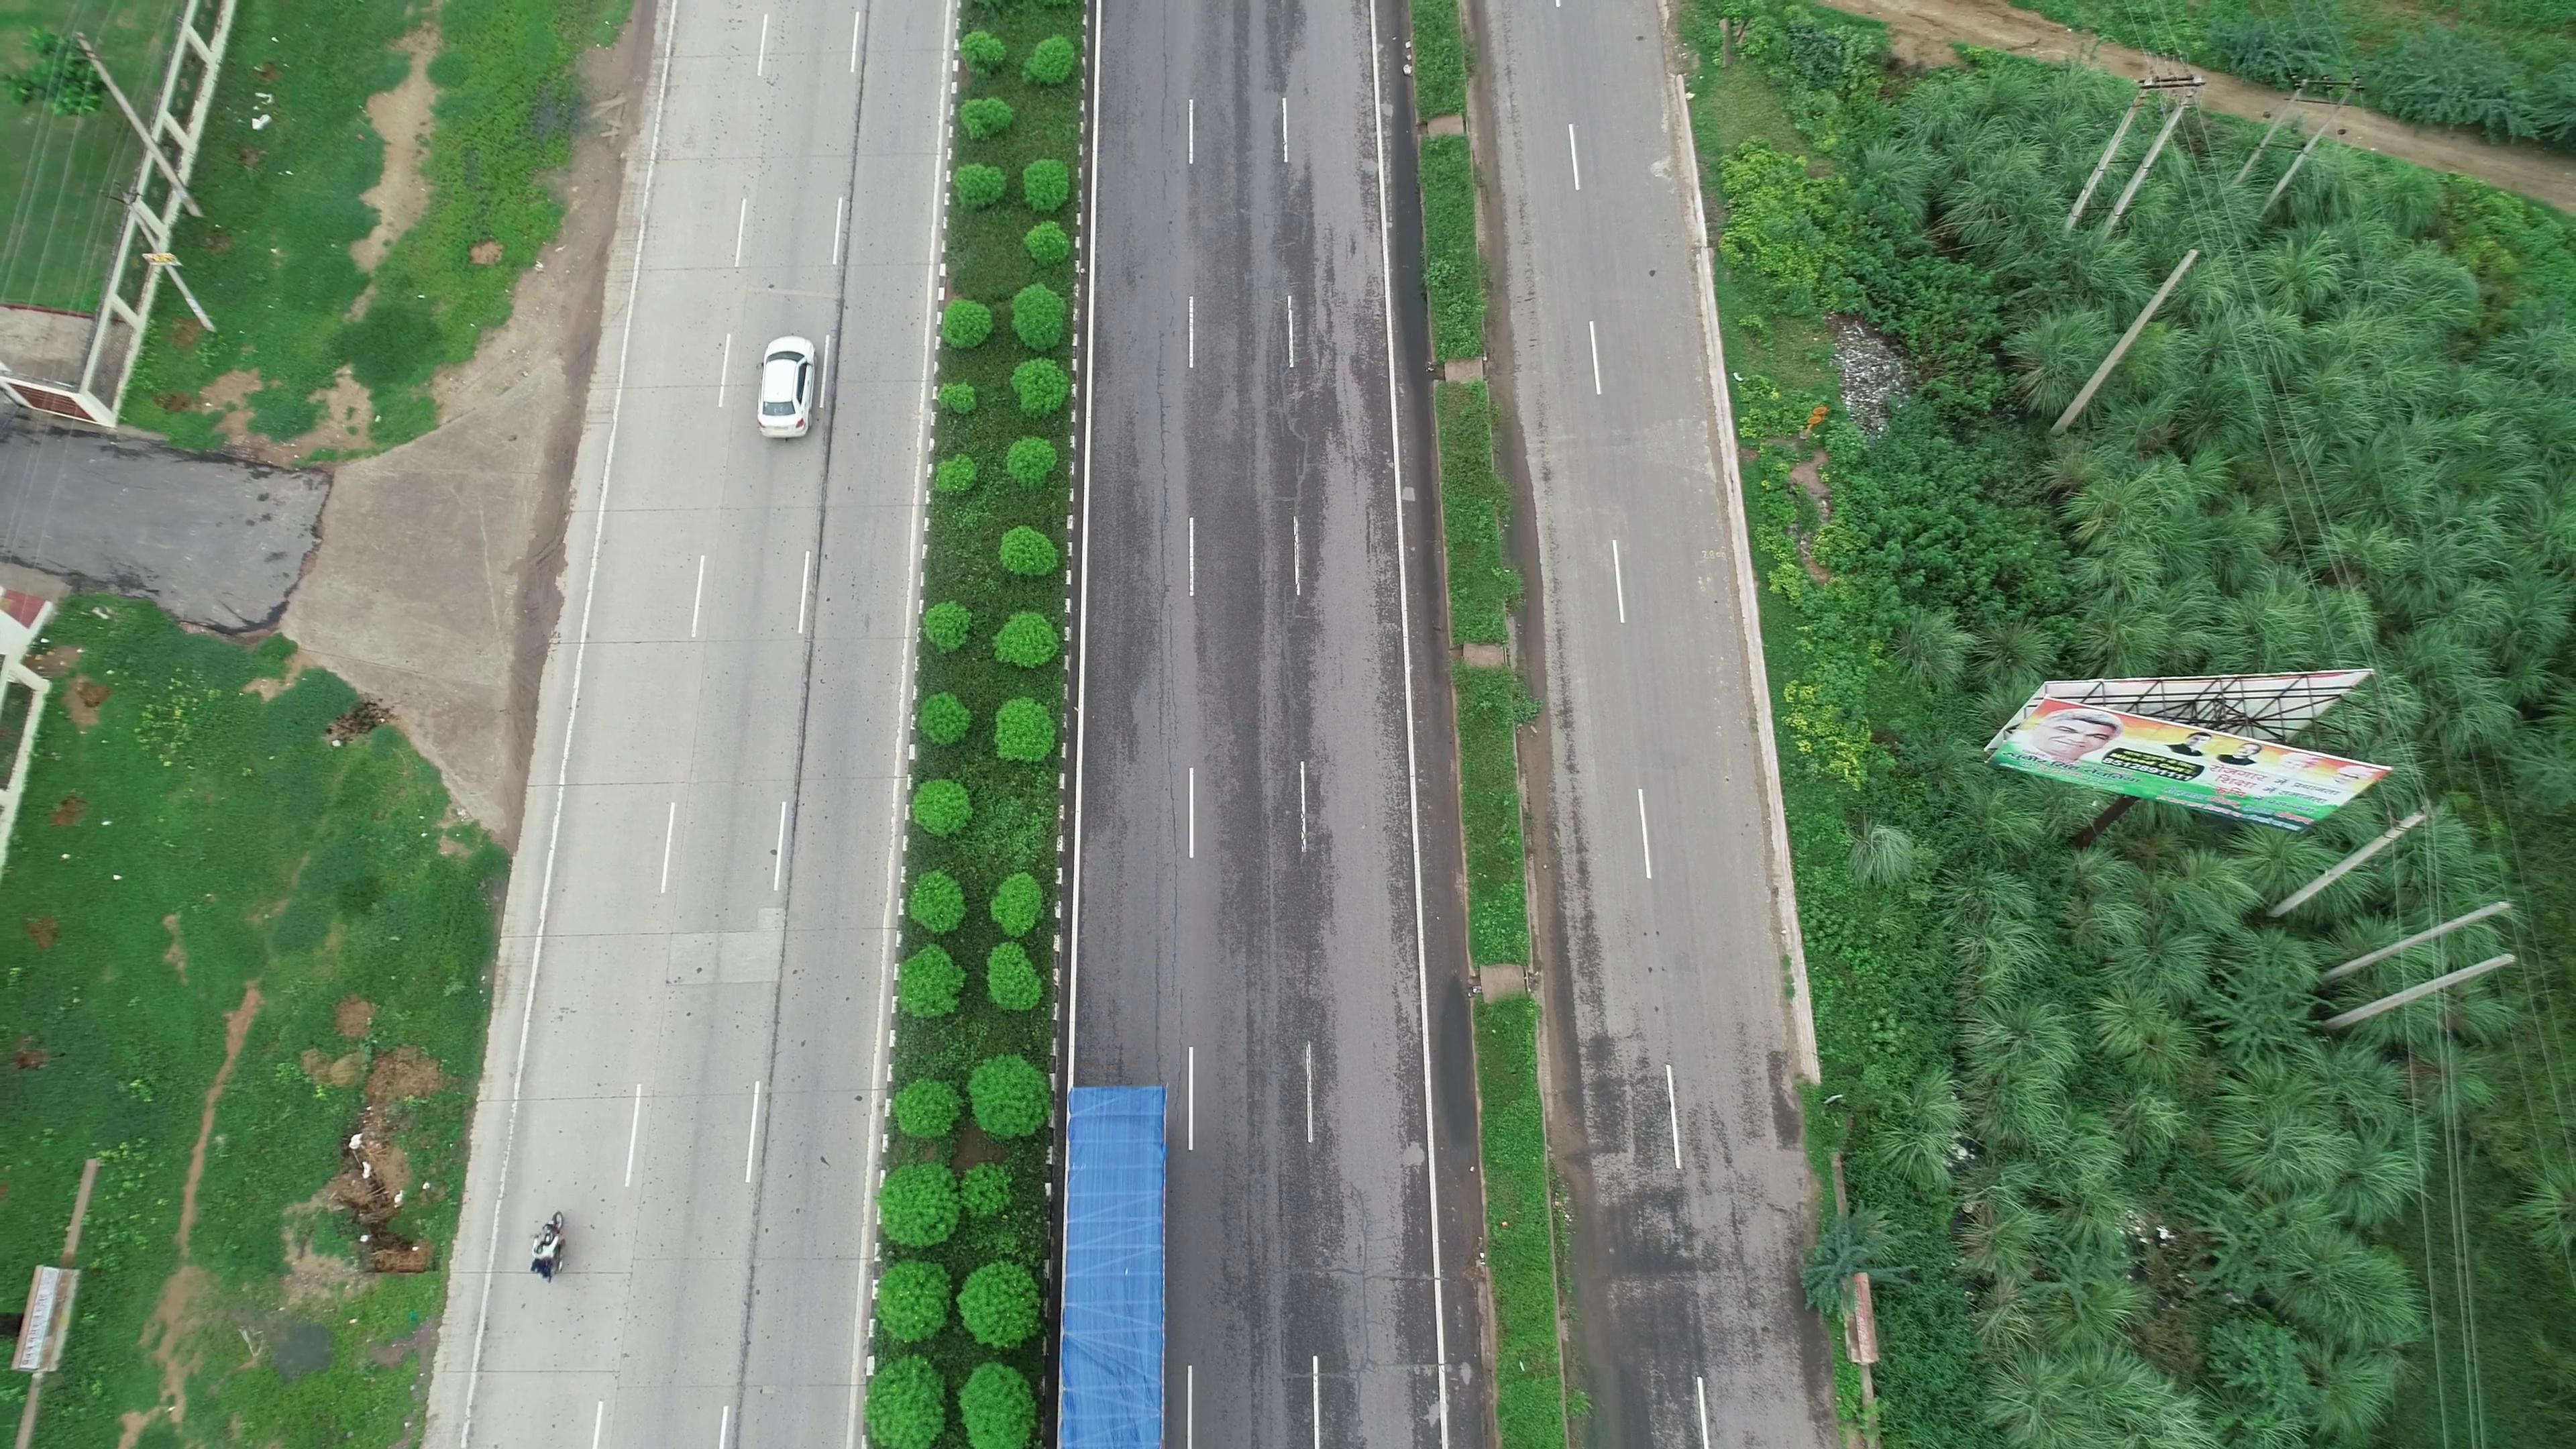Longitudinal_cracks: (1152, 338, 1191, 1024)
